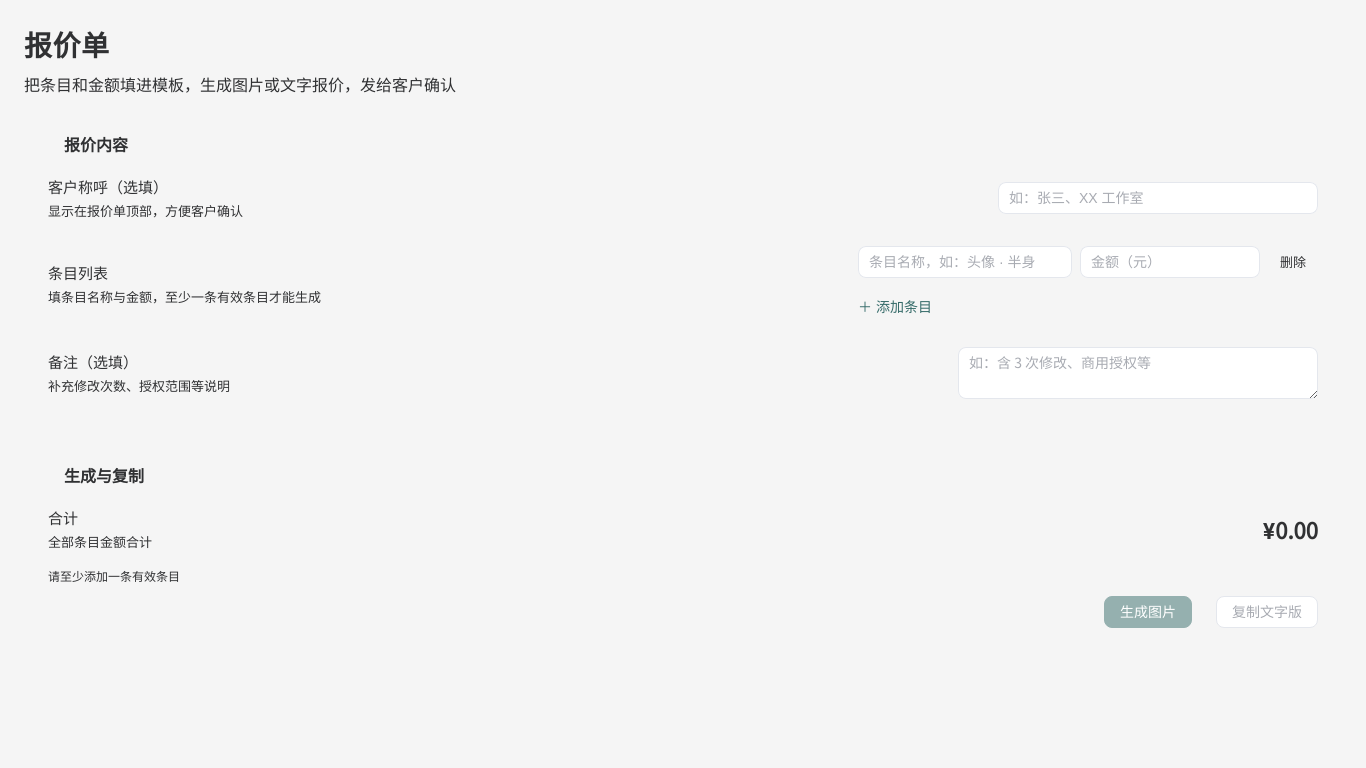
Test: 报价单生成（812-tools-a） › 填写条目后合计按分计算并展示（200 + 80 = ¥280.00），按钮可用
The width and height of the screenshot is (1366, 768).
Type "头像" into the field with placeholder "条目名称，如：头像 · 半身". click: (965, 262)
box: [869,246,1061,276]
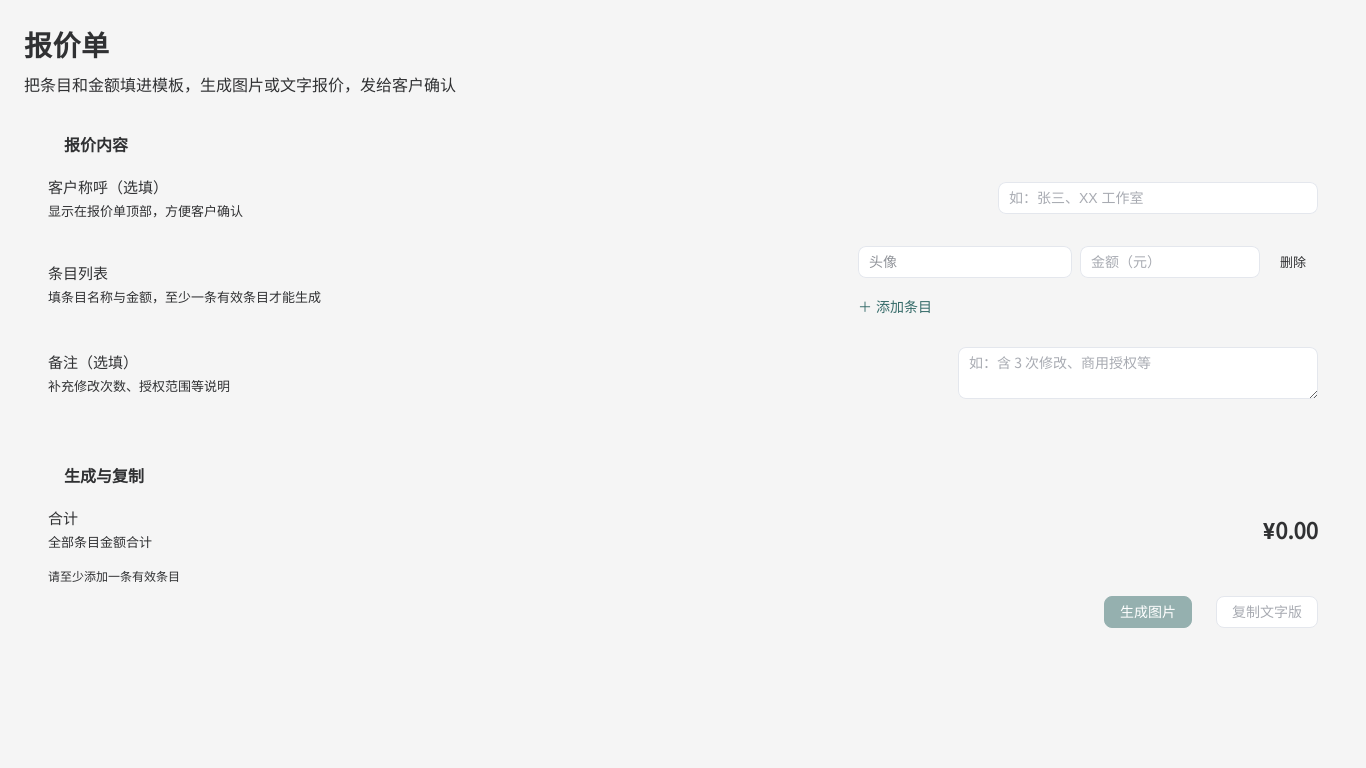
Type "200" into the field with placeholder "金额（元）". click: (1170, 262)
box: [1091,246,1249,276]
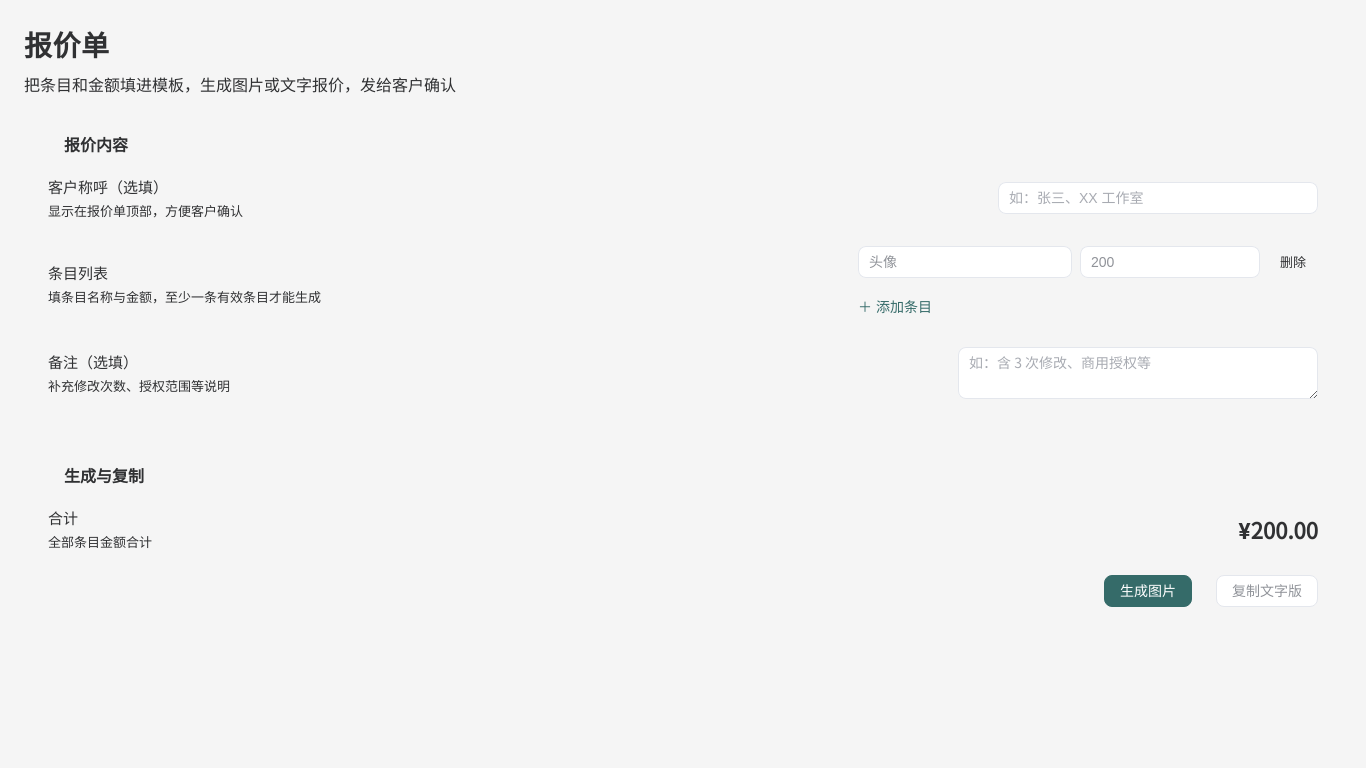
Now the text "¥200.00" is shown, box [1238,513,1318,545]
Click the button "＋ 添加条目". click: (895, 307)
box: [858,291,932,323]
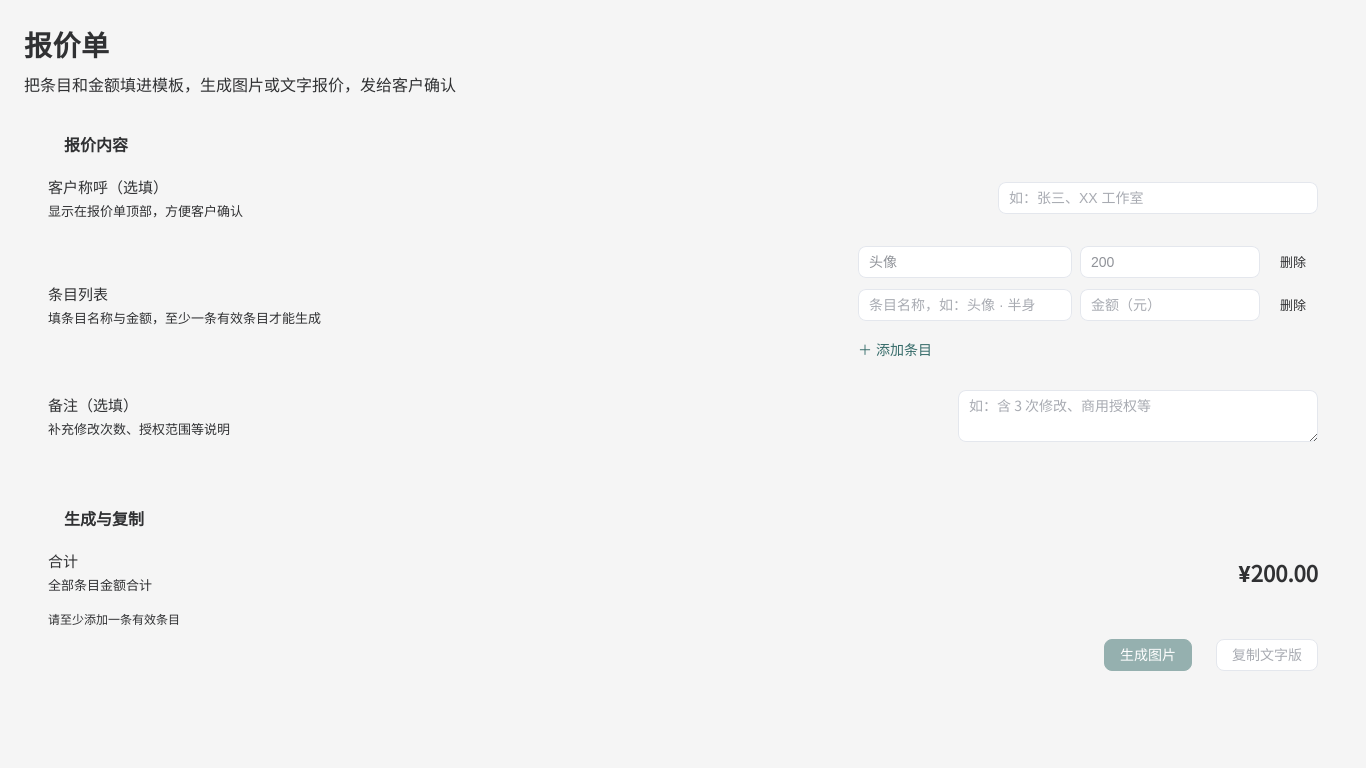
Type "背景" into the field with placeholder "条目名称，如：头像 · 半身". click: (965, 304)
box: [869,290,1061,320]
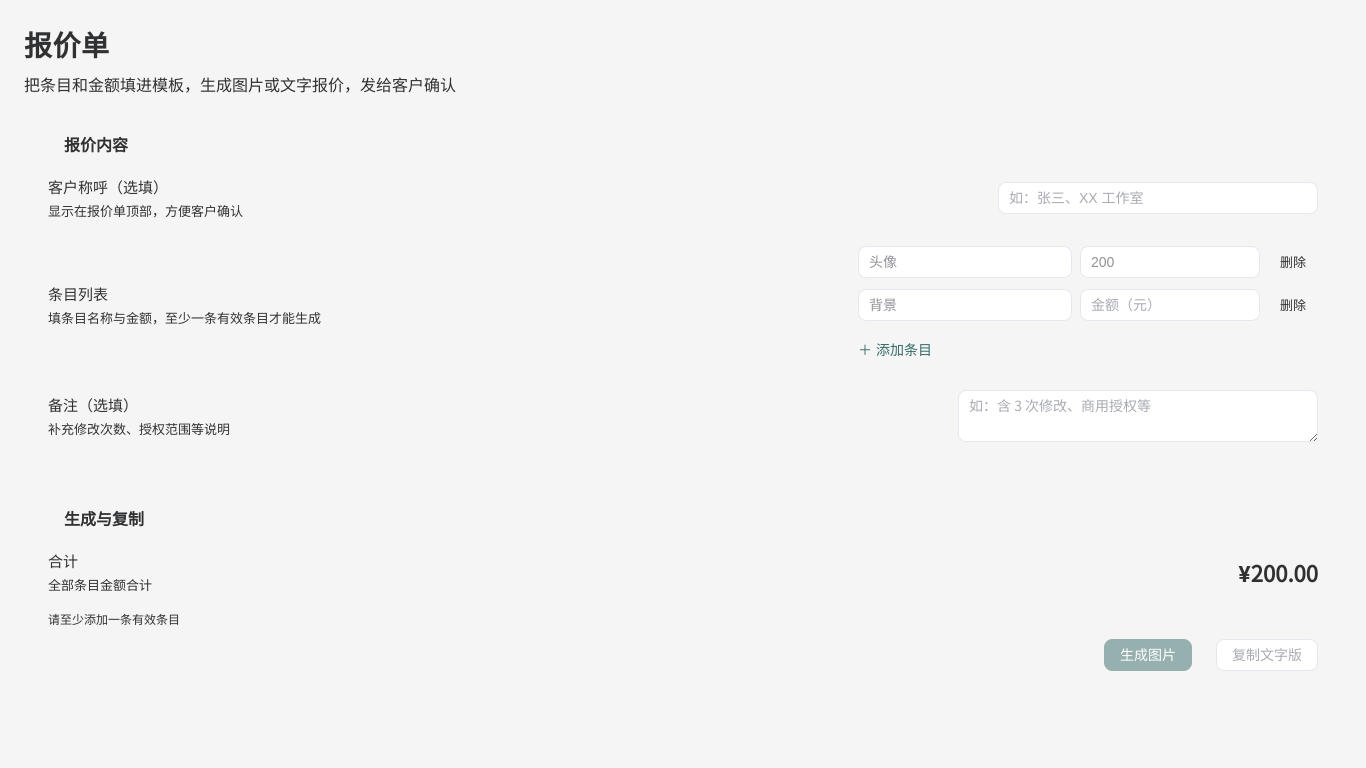
Type "80" into the field with placeholder "金额（元）". click: (1170, 304)
box: [1091,290,1249,320]
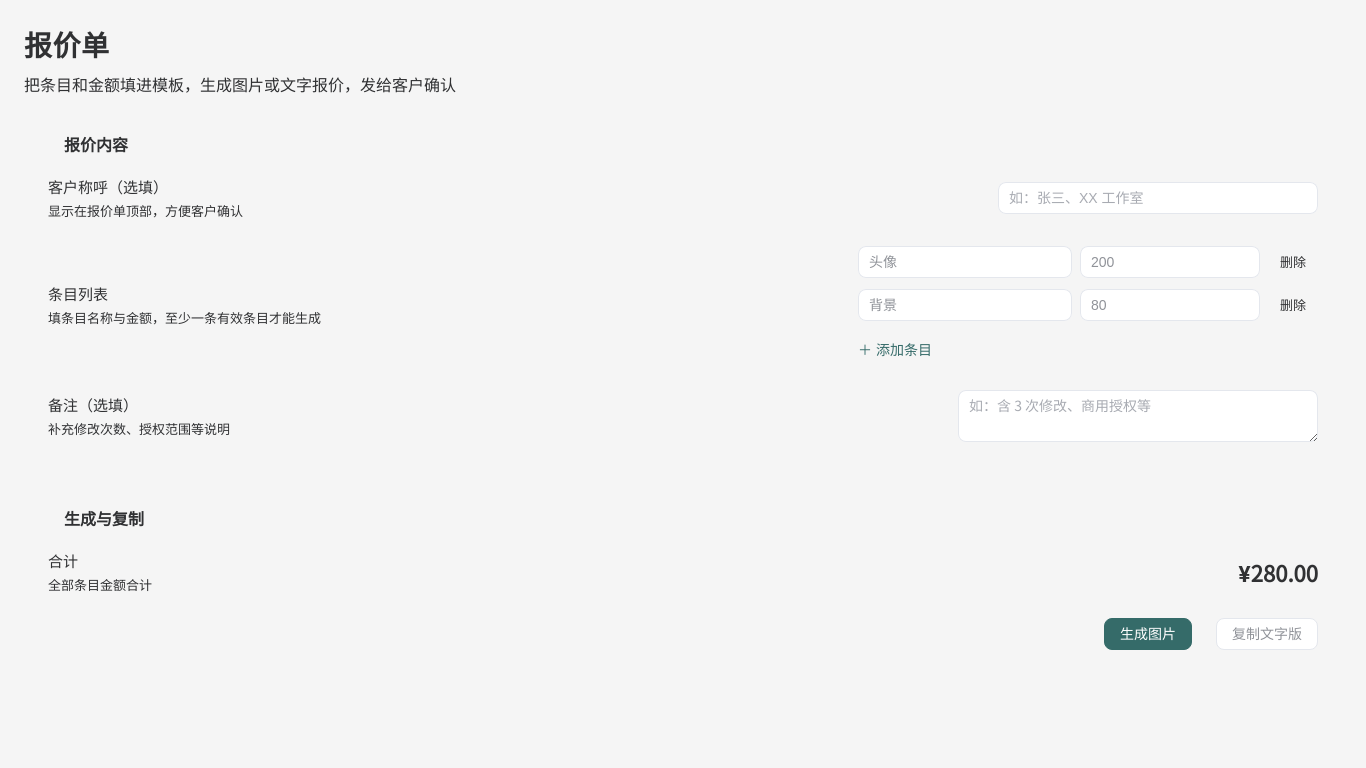
Now the text "¥280.00" is shown, box [1238,556,1318,588]
Now the button "生成图片" is enabled, box [1104,618,1192,650]
Now the button "复制文字版" is enabled, box [1216,618,1318,650]
